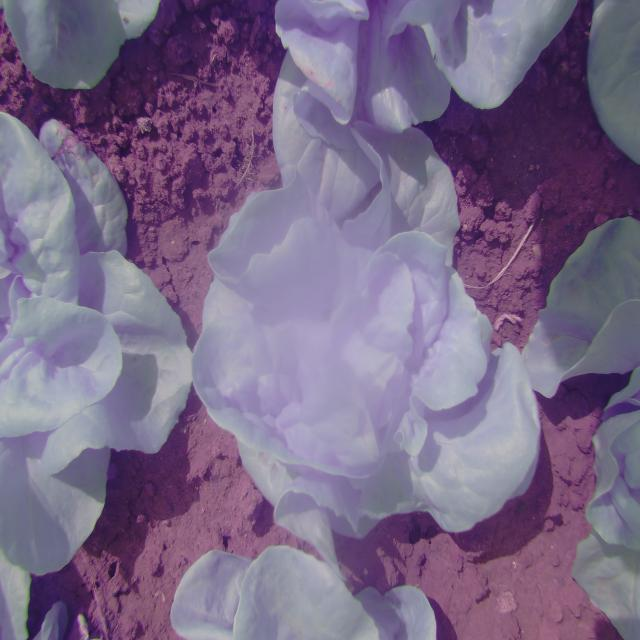vege: (190, 121, 544, 551)
